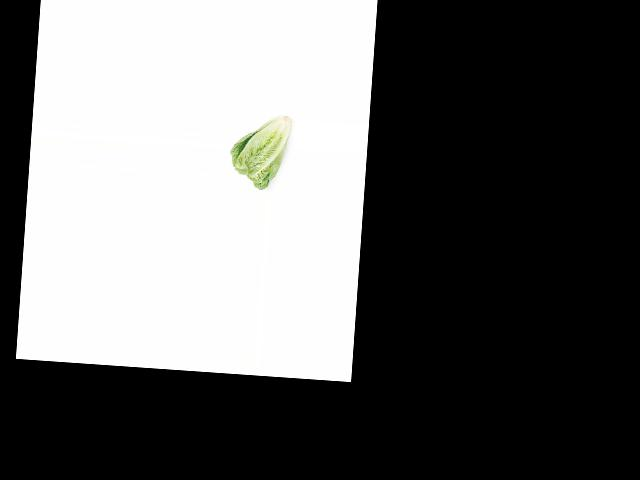lettuce: (228, 110, 293, 191)
